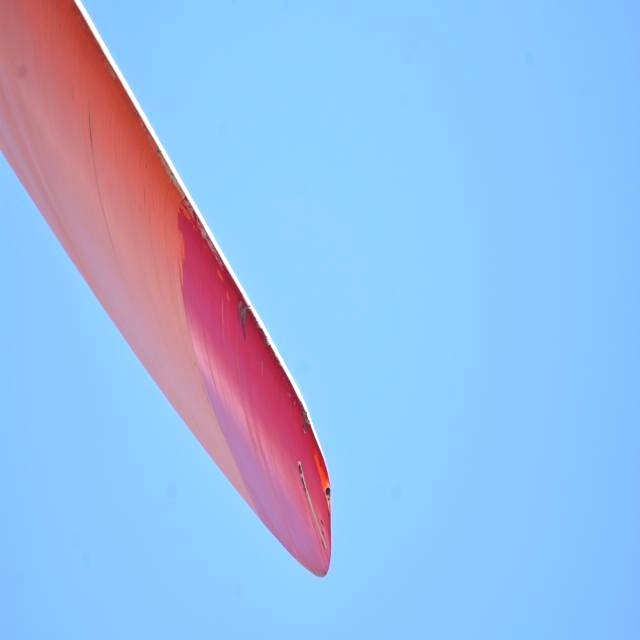Crack: (295, 471, 325, 548)
EROSION: (187, 222, 357, 450)
